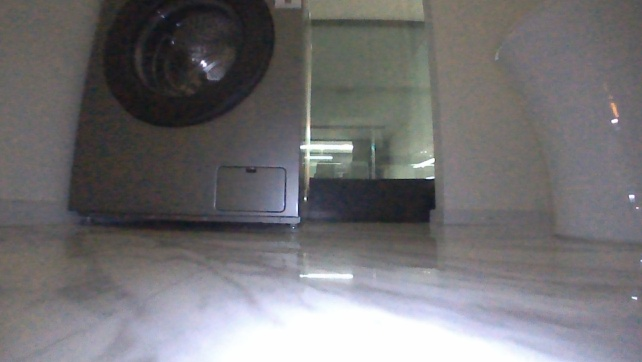toilet: (492, 1, 641, 243)
washing_machine: (64, 1, 313, 229)
